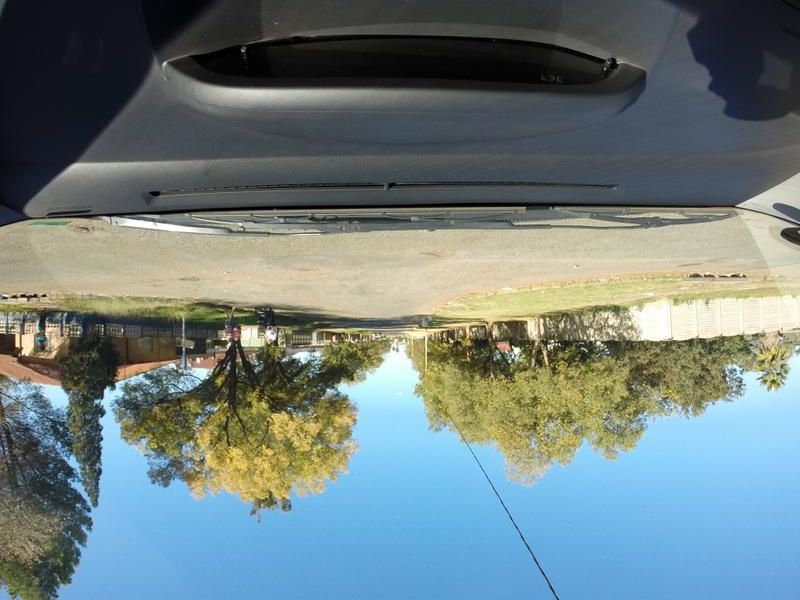pothole: (410, 241, 438, 264), (73, 222, 99, 242), (286, 258, 314, 275), (173, 273, 205, 284)
